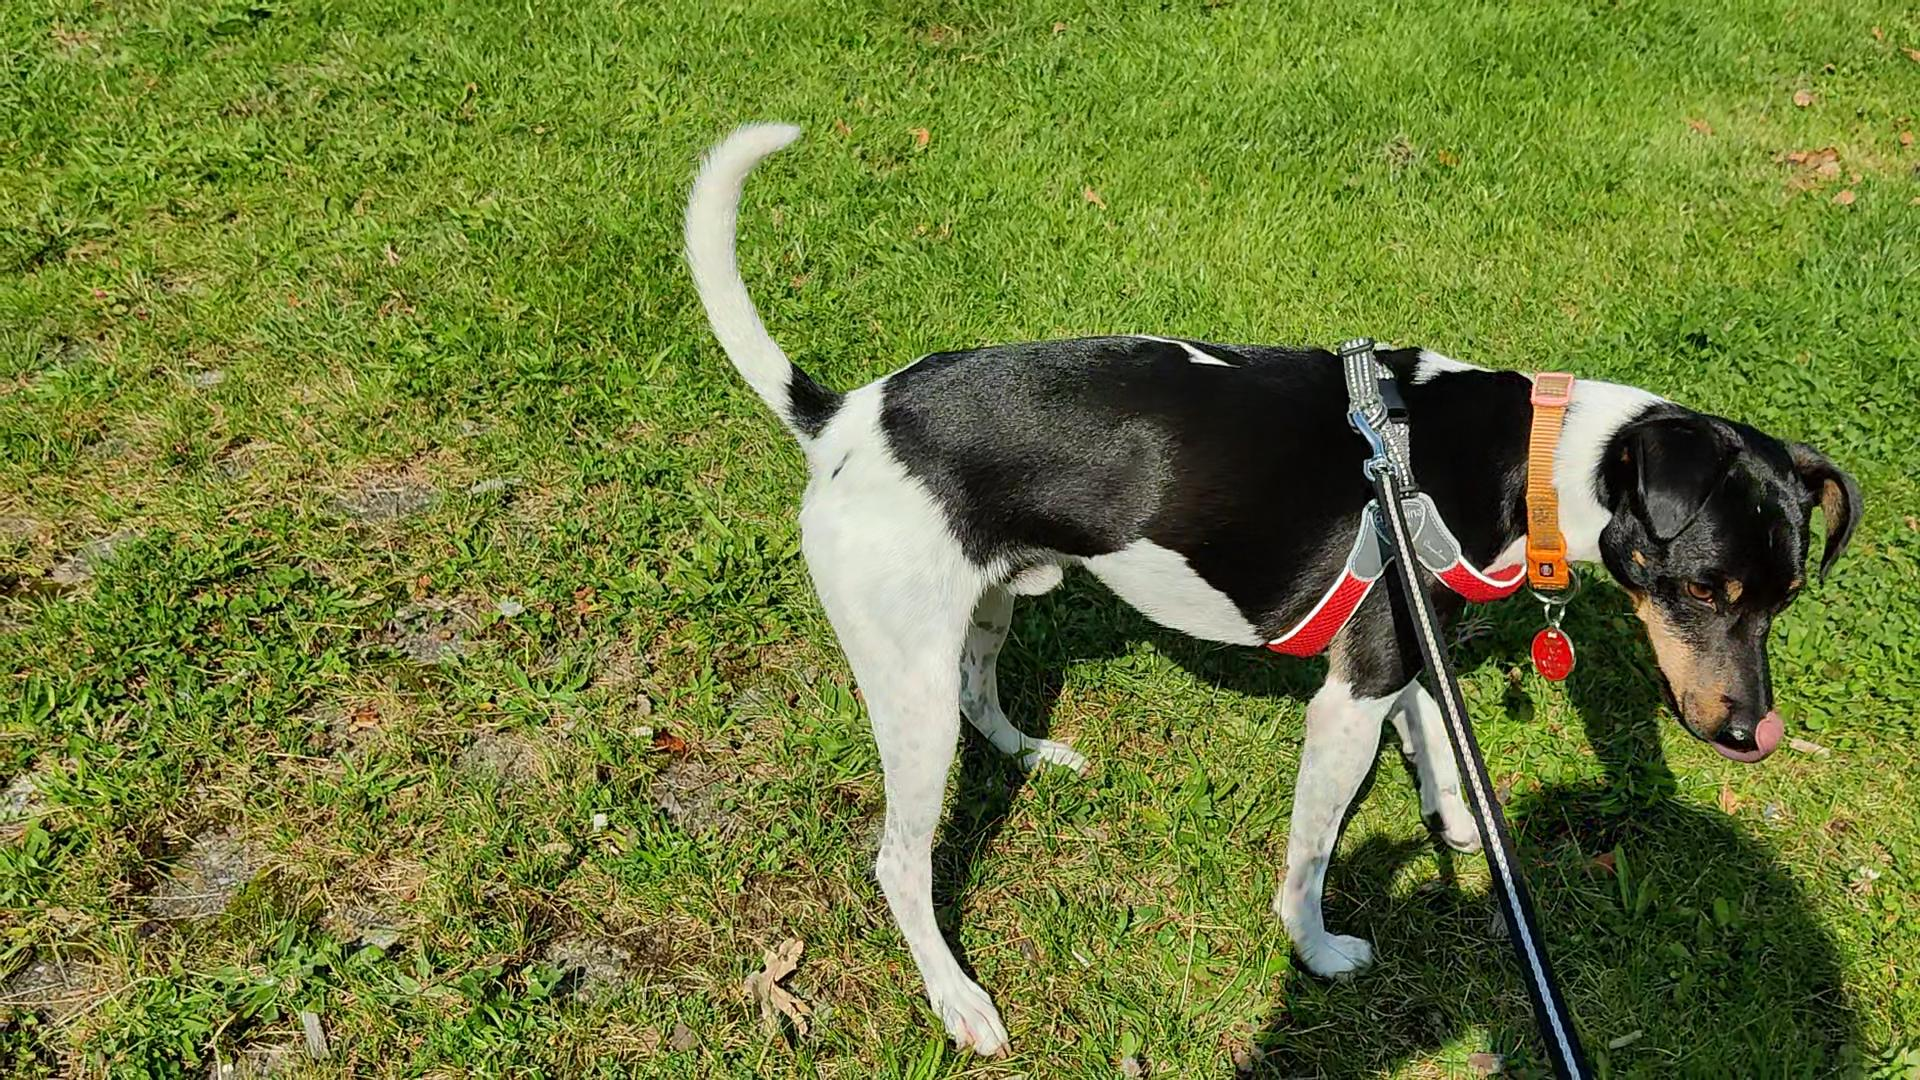Dog: (676, 123, 1867, 1060)
